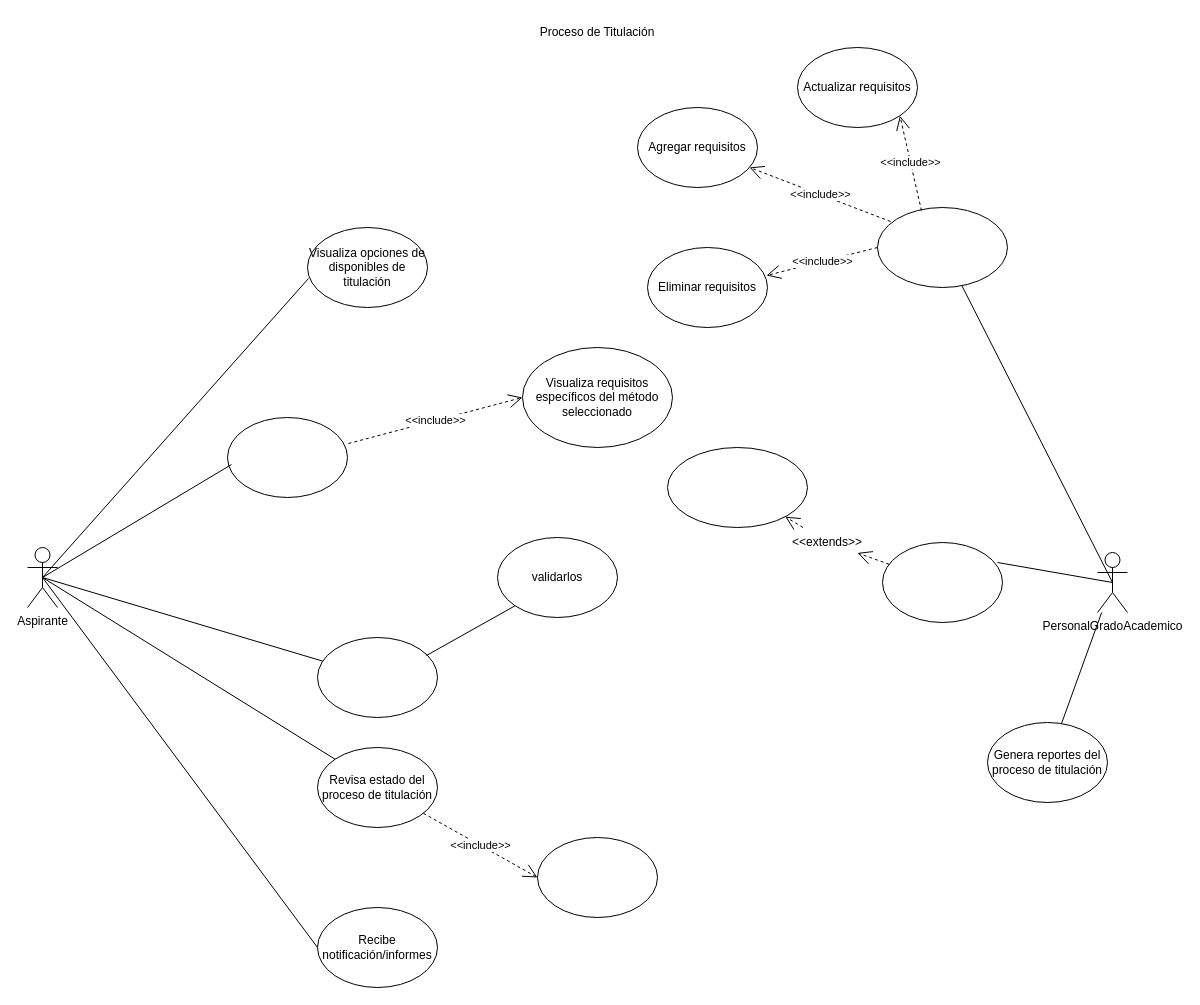
Some shapes in this 1200 by 1005 pixel diagram are drawn without their labels. The shapes that lost their labels are listed below. From the top down, each one's centre as x and y in pixels, then its label:
At (942,247): "Gestiona y revisa procesos de titulación y requisitos".
At (287,457): "Selecciona método de titulación".
At (737,487): "Envía observaciones al aspirante".
At (942,582): "Revisa documentación enviada por el aspirante".
At (377,677): "Sube documentación requerida".
At (597,877): "notificación automática sobre cambio en el estado".
